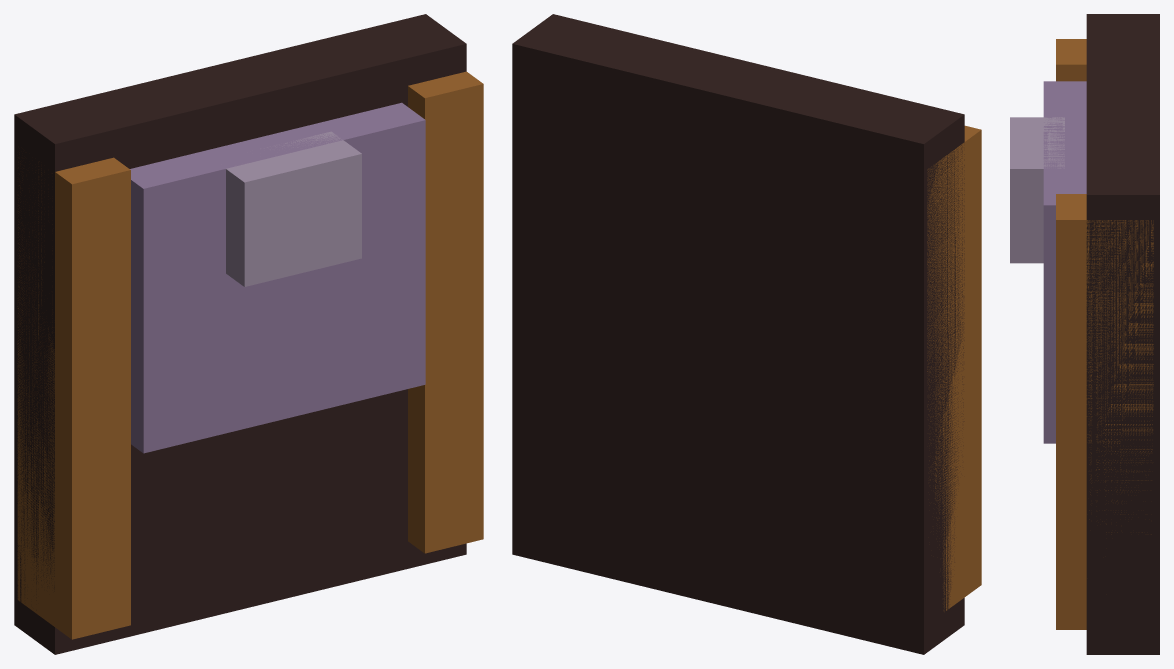
File: moon_shield.glb
3 views of the same model, side by side, from view 1: azimuth 30°, elevation 25°; view 2: azimuth 150°, elevation 25°; view 3: azimuth 270°, elevation 25° (orthographic). The views are drawn at different scales.
Parts seen in each view (by area): view 1: world; view 2: world; view 3: world.
Part boxes in pixels (bbox=[...]): world: bbox=[14, 14, 483, 654]; world: bbox=[512, 14, 981, 654]; world: bbox=[1010, 14, 1159, 654].
Bounding box in the file's own units: 0.7 × 0.83 × 0.245.
Materials: 1 (1 with a texture image).
